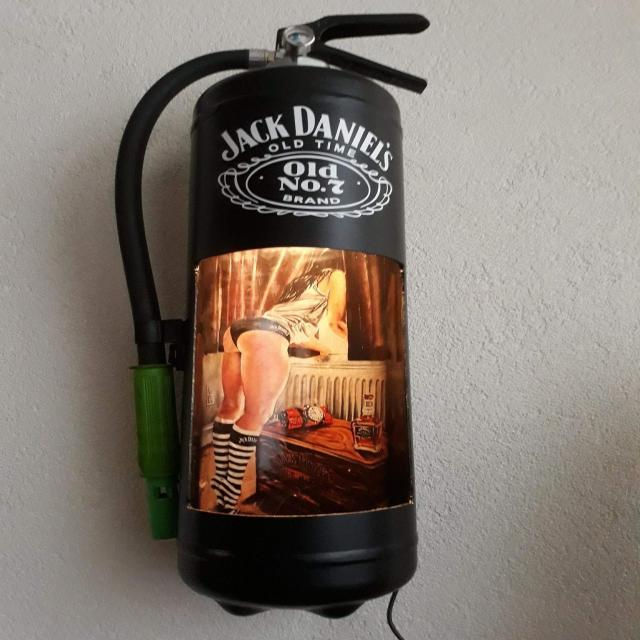fire_extinguisher: (106, 8, 439, 631)
